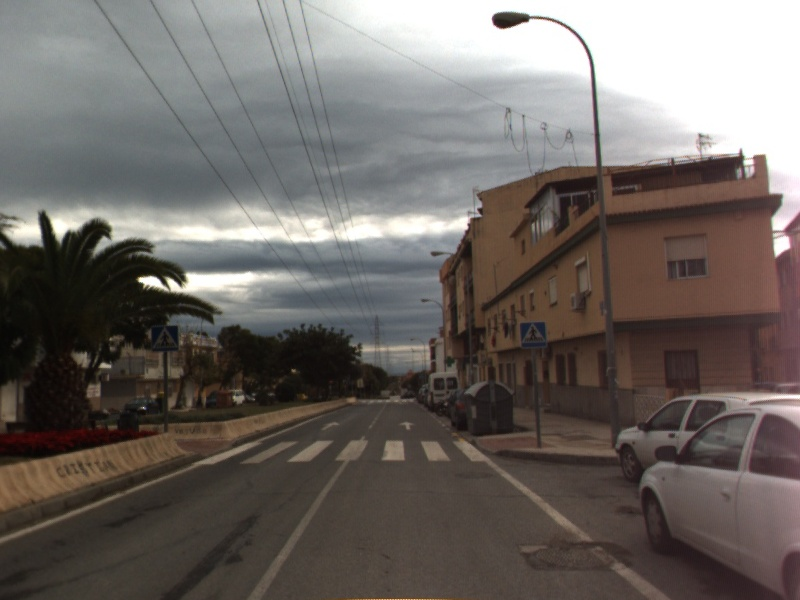STRAIGHT: (319, 419, 342, 432), (397, 419, 417, 431)
